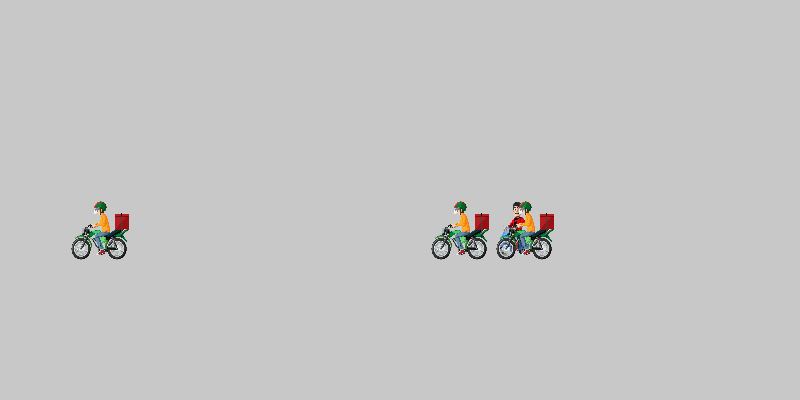helmet: (70, 200, 130, 260), (430, 200, 490, 260), (495, 200, 555, 260)
no_helmet: (485, 200, 545, 260)
